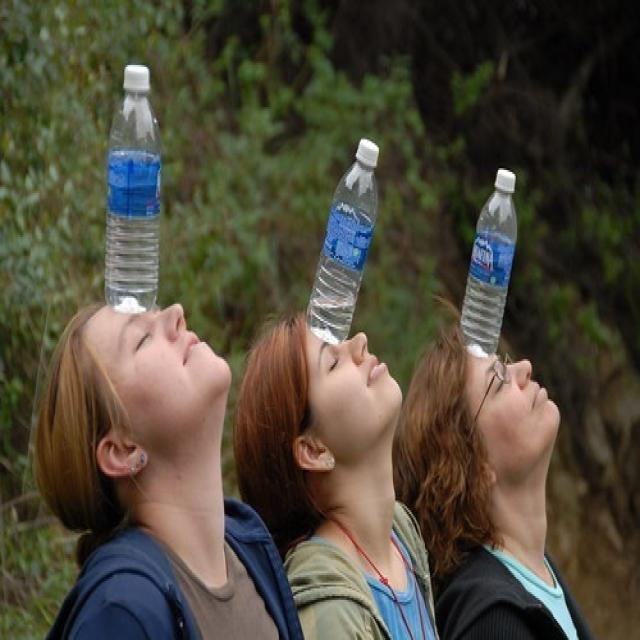plastic_bottle: (306, 138, 380, 344), (104, 66, 163, 314), (459, 168, 518, 359)
